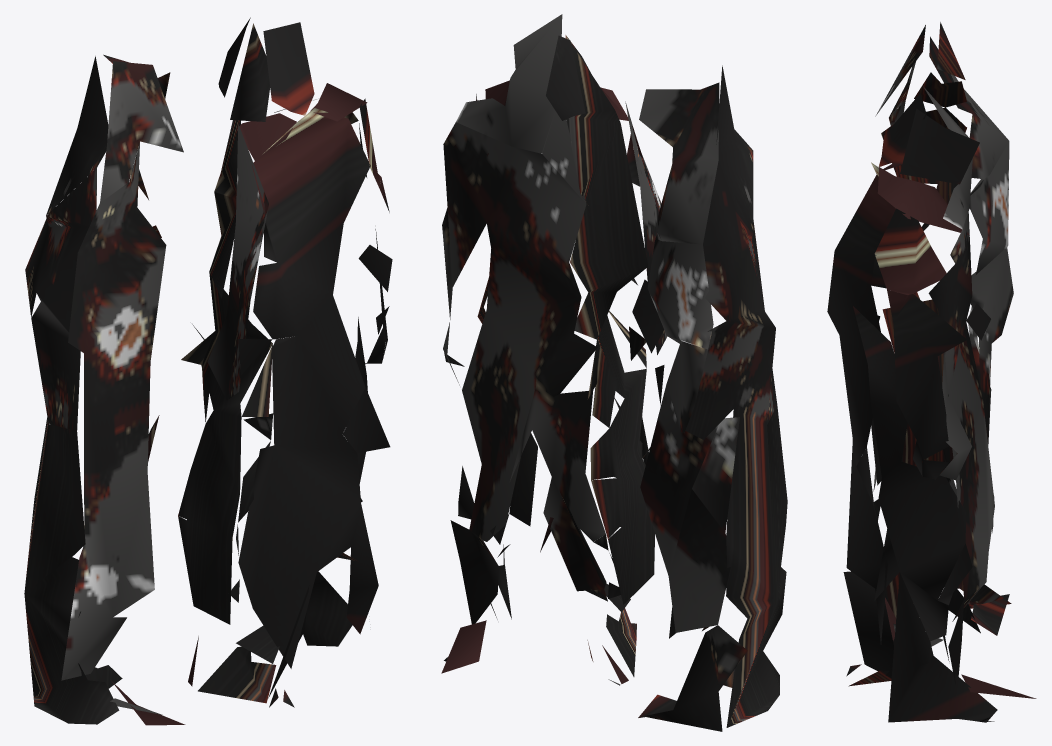
The picture shows the model from 3 angles, left to right: view 1: azimuth 30°, elevation 25°; view 2: azimuth 150°, elevation 25°; view 3: azimuth 270°, elevation 25°; orthographic projection. The views are drawn at different scales.
Parts seen in each view (by area): view 1: body.002; view 2: body.002; view 3: body.002.
Boxes of the visible parts, <box> form: body.002: <box>24,17,392,725</box>; body.002: <box>441,14,787,731</box>; body.002: <box>827,22,1036,722</box>.
Bounding box in the file's own units: 1.1 × 2.04 × 0.6223.
Materials: 1 (1 with a texture image).
